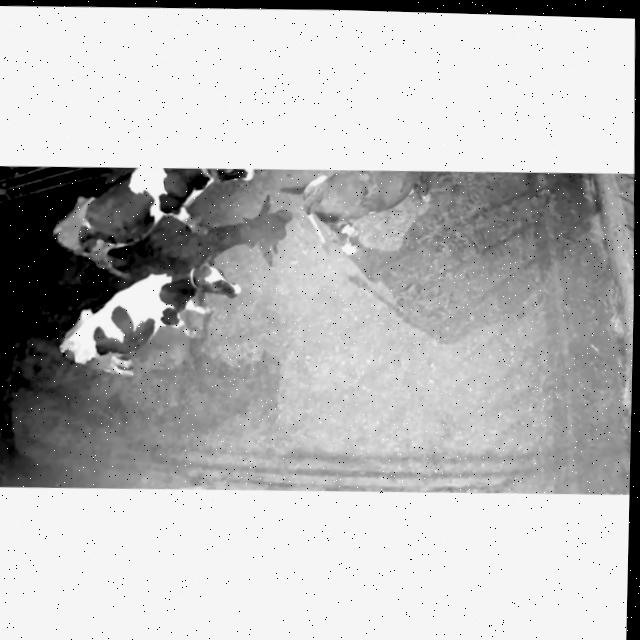stand: (51, 249, 251, 397), (47, 162, 259, 280), (295, 165, 455, 253)
